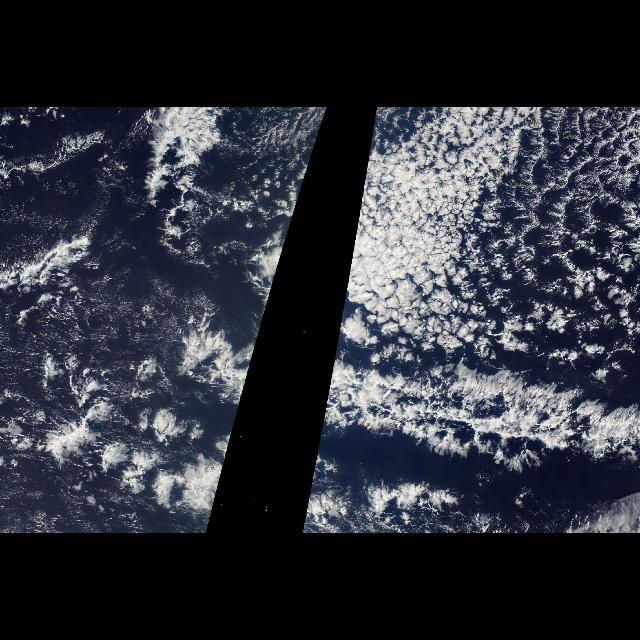Fish: (312, 307, 640, 477), (163, 307, 267, 477)
Flower: (332, 110, 498, 368), (282, 109, 328, 257)
Gravel: (473, 110, 639, 358), (68, 262, 208, 404)
Sugar: (2, 274, 176, 374), (2, 476, 120, 528), (0, 180, 108, 232)
